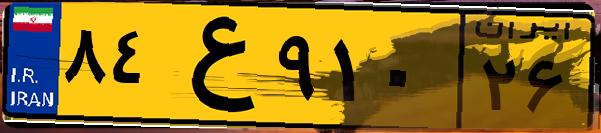0: (385, 28, 445, 110)
1: (330, 28, 385, 110)
2: (475, 38, 525, 113)
4: (110, 28, 158, 98)
6: (525, 38, 570, 115)
8: (57, 26, 110, 100)
9: (270, 28, 330, 110)
ع: (158, 12, 270, 120)
